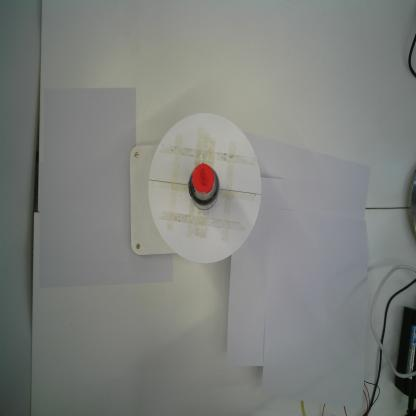Seasoner: (187, 162, 220, 212)
